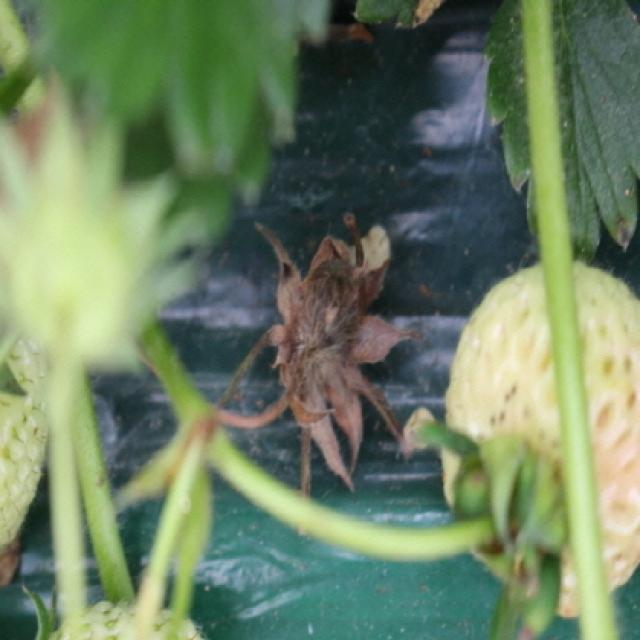Gray Mold: (221, 213, 421, 499)
